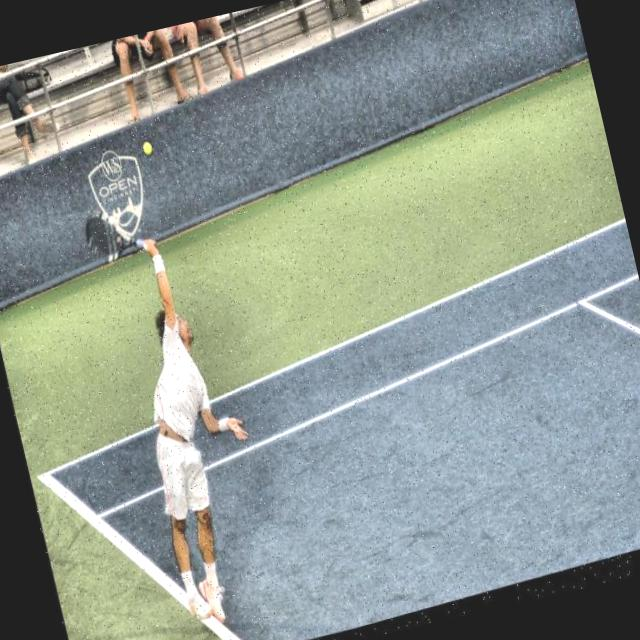tennis-ball: (138, 136, 156, 162)
